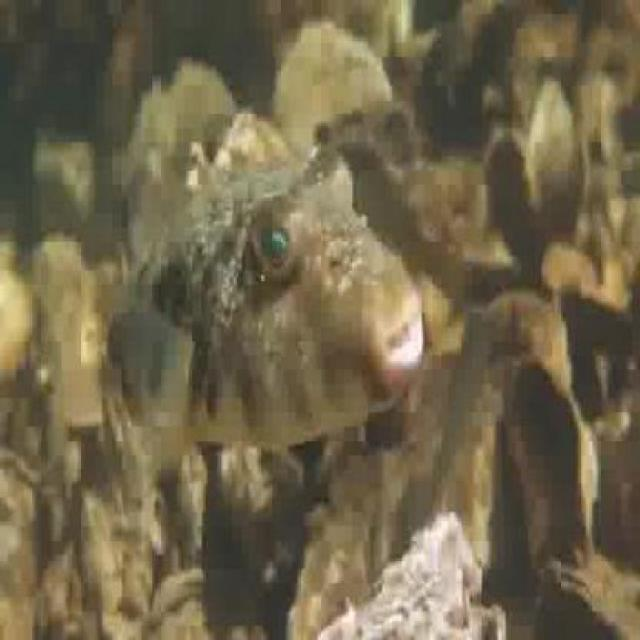Oyster- Indeterminate: (456, 288, 574, 520), (319, 512, 497, 640), (31, 231, 107, 427), (282, 20, 400, 146), (140, 556, 276, 640), (531, 555, 640, 640), (157, 61, 236, 163), (0, 448, 57, 569), (0, 238, 48, 375), (223, 106, 287, 169), (129, 83, 164, 171)
Oyster-Closed: (530, 75, 583, 233)
Oyster-Open: (192, 134, 233, 185)
